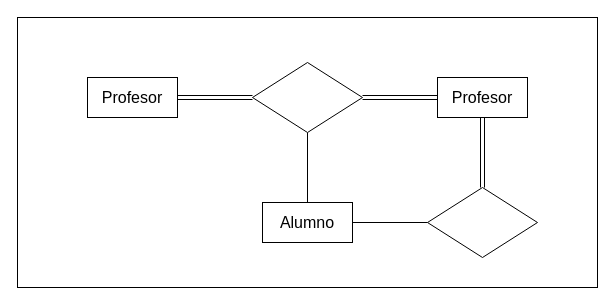
Some shapes in this 615 by 305 pixel diagram are drawn without their labels. Each missing label, with the centre of its shape:
"Tener" goes at (x=307, y=97).
"Tomar" goes at (x=482, y=222).
